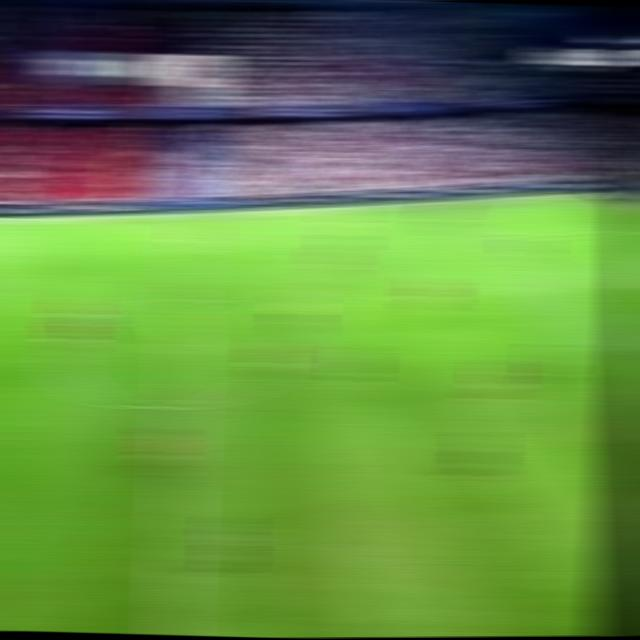bigarea_top_inner: (493, 233, 528, 248)
corner: (572, 191, 608, 201)
halfcircle_bottom: (157, 391, 202, 418)
halfcircle_top: (161, 286, 204, 310)
midline_top_intersection: (169, 209, 206, 225)
top_arc_area_intersection: (540, 274, 576, 288)
